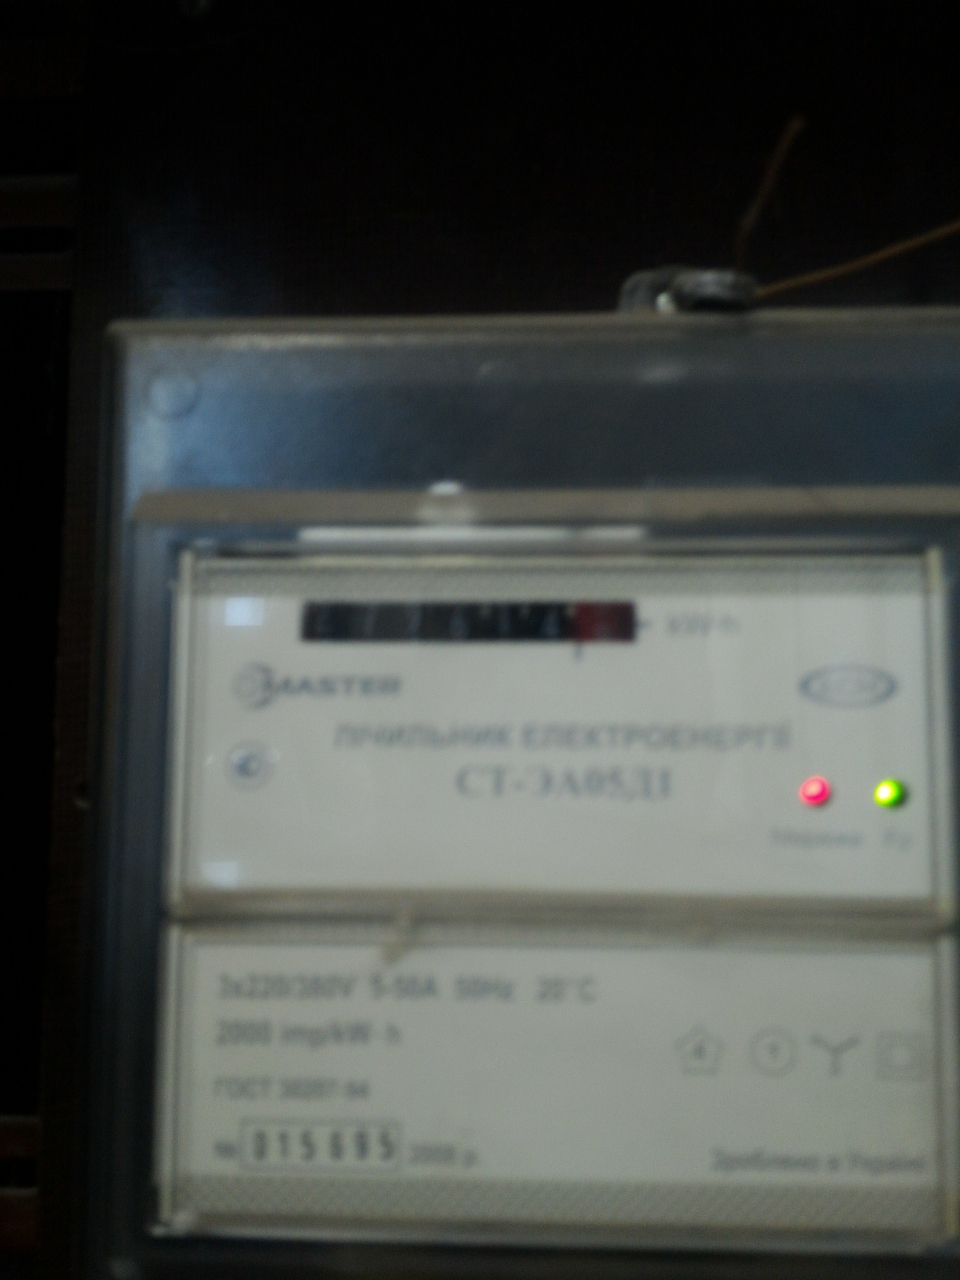screen: (288, 588, 650, 654)
x: (589, 606, 615, 639), (445, 605, 469, 638), (539, 607, 561, 639), (358, 606, 379, 637), (402, 605, 423, 635), (492, 606, 511, 636), (312, 608, 333, 634)
